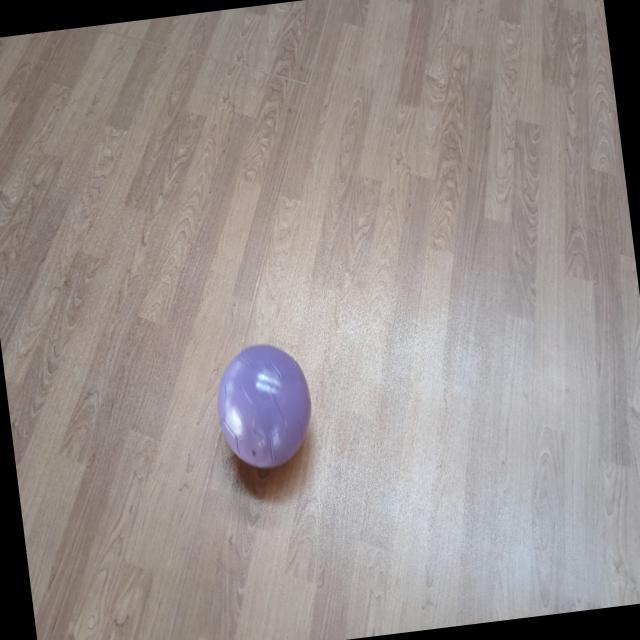purple_ball: (208, 334, 320, 476)
